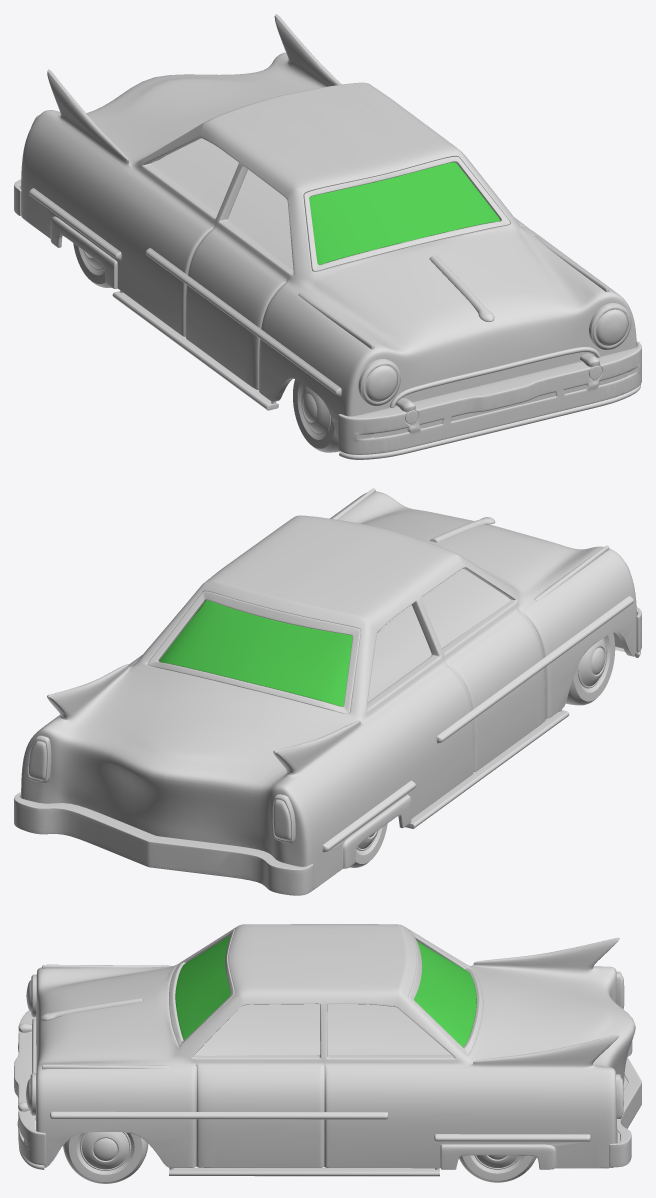
The model's file is ToyCar.obj.
The picture shows the model from 3 angles, top to bottom: view 1: azimuth 30°, elevation 25°; view 2: azimuth 150°, elevation 25°; view 3: azimuth 270°, elevation 25°; orthographic projection. The views are drawn at different scales.
Parts seen in each view (by area): view 1: ToyCar_Body_m0, ToyCar_Body_m2, ToyCar_Wheel_FL_m0, ToyCar_Wheel_RL_m0; view 2: ToyCar_Body_m0, ToyCar_Body_m2, ToyCar_Wheel_FL_m0, ToyCar_Wheel_RL_m0; view 3: ToyCar_Body_m0, ToyCar_Body_m2, ToyCar_Wheel_FR_m0, ToyCar_Wheel_RR_m0.
Boxes of the visible parts, bbox=[...] form: ToyCar_Body_m0: bbox=[14, 14, 641, 459]; ToyCar_Body_m2: bbox=[309, 162, 500, 264]; ToyCar_Wheel_FL_m0: bbox=[293, 379, 339, 452]; ToyCar_Wheel_RL_m0: bbox=[73, 243, 111, 287]; ToyCar_Body_m0: bbox=[14, 488, 641, 895]; ToyCar_Body_m2: bbox=[159, 600, 352, 706]; ToyCar_Wheel_FL_m0: bbox=[565, 633, 615, 705]; ToyCar_Wheel_RL_m0: bbox=[349, 823, 387, 867]; ToyCar_Body_m0: bbox=[14, 924, 641, 1176]; ToyCar_Body_m2: bbox=[175, 935, 476, 1047]; ToyCar_Wheel_FR_m0: bbox=[63, 1132, 148, 1183]; ToyCar_Wheel_RR_m0: bbox=[459, 1155, 536, 1182].
Size of the model in its own units: 0.0187 by 0.0116 by 0.0384.
